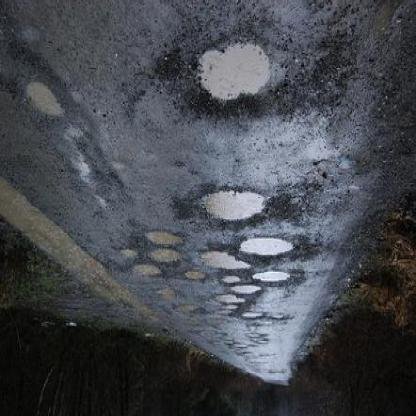pothole: (190, 42, 282, 119), (197, 190, 272, 229), (24, 84, 66, 122), (238, 237, 298, 263), (200, 251, 252, 274), (145, 231, 186, 249), (250, 271, 293, 288), (148, 249, 182, 265), (131, 266, 164, 280), (215, 297, 248, 308), (230, 287, 261, 298), (242, 313, 264, 323), (185, 274, 206, 284)
